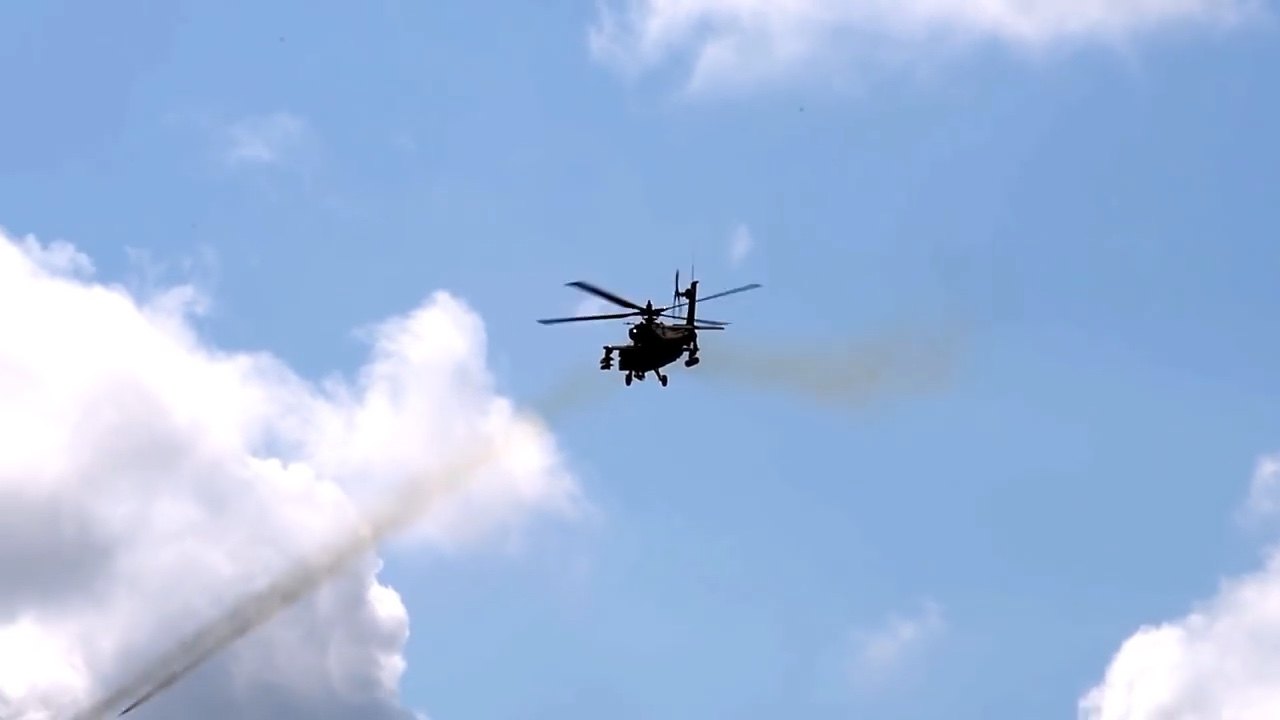ah64: (534, 261, 766, 389)
